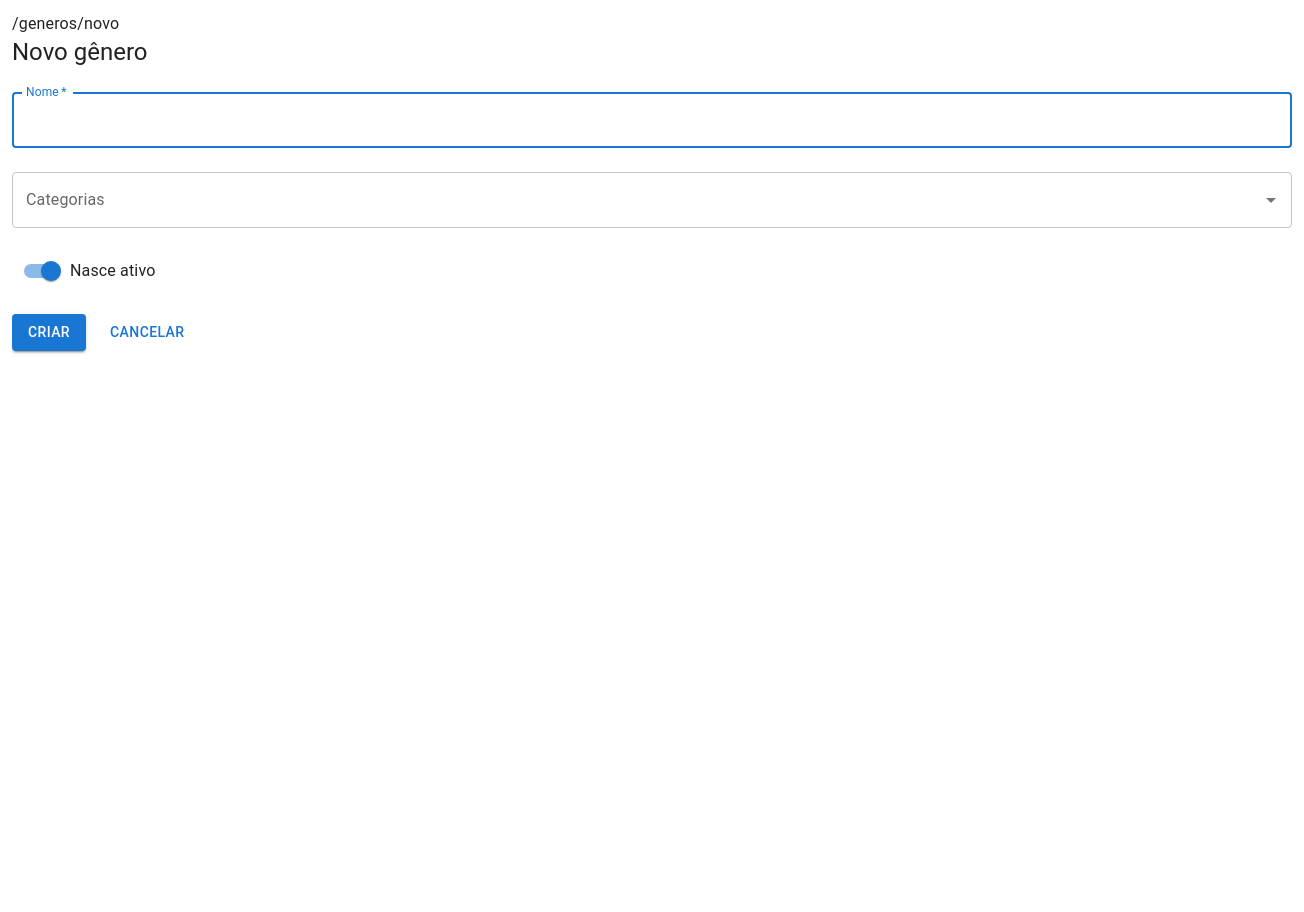
Test: GenreCreate › givenSoONome_whenCria_thenMandaListaVaziaDeCategorias
In the field labelled "Nome *": (652, 120) [12,92,1292,148], type "Ação"
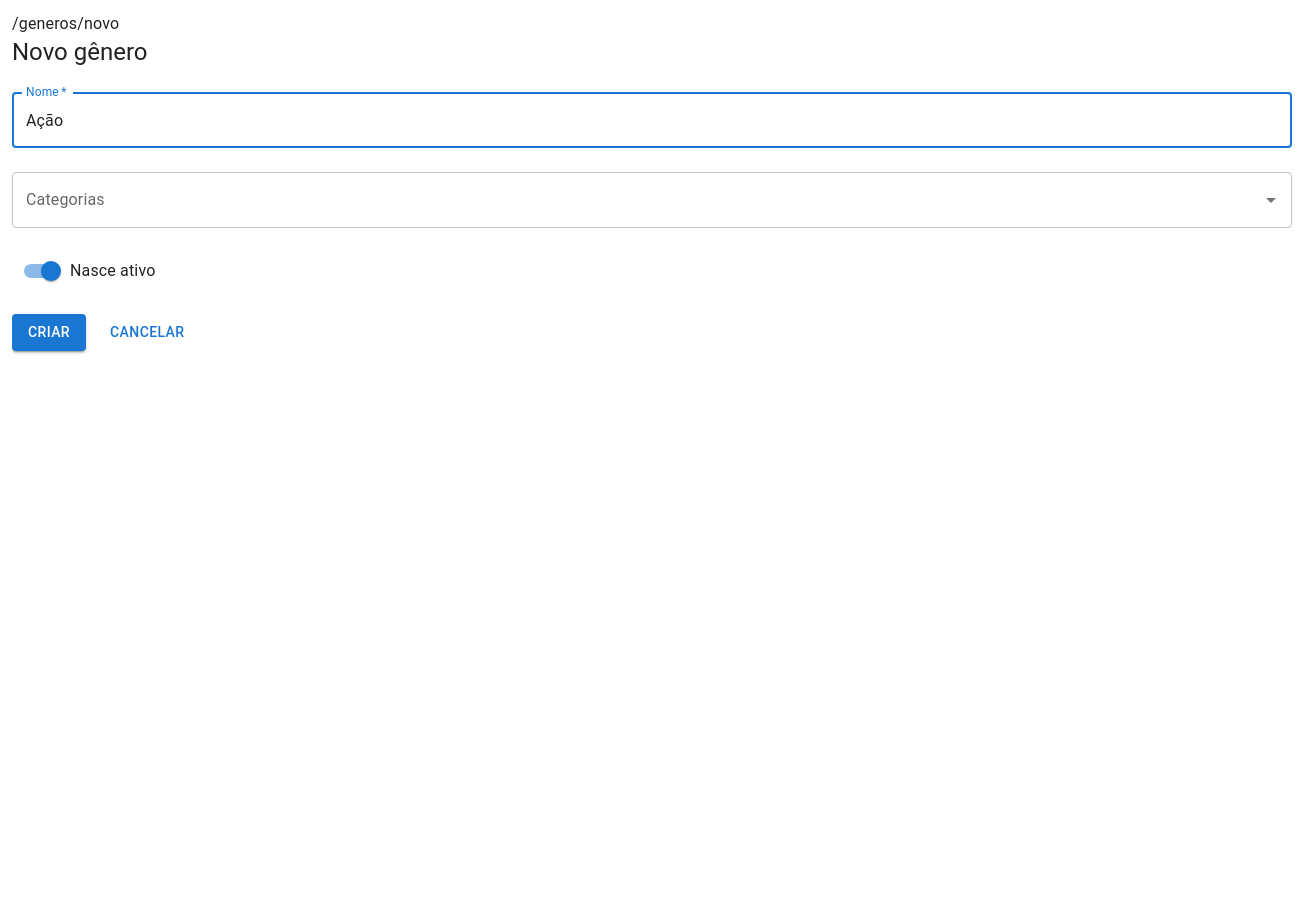
Click the button "Criar": (49, 332) [12,314,86,350]
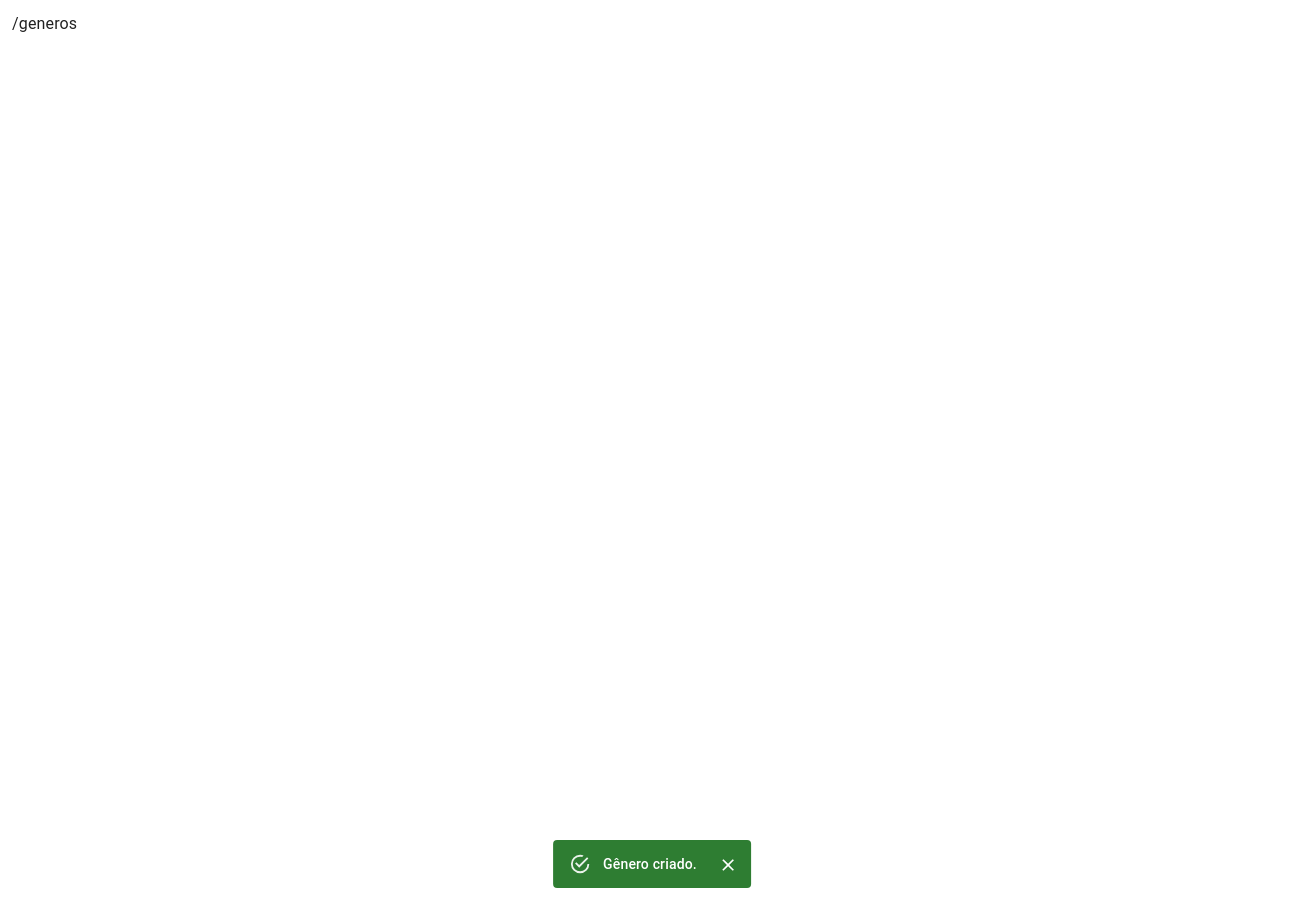
Expected: the text with test id "rota" reads "/generos", [12,14,77,33]
Expected: the text "Gênero criado." is shown, [603,856,697,872]
